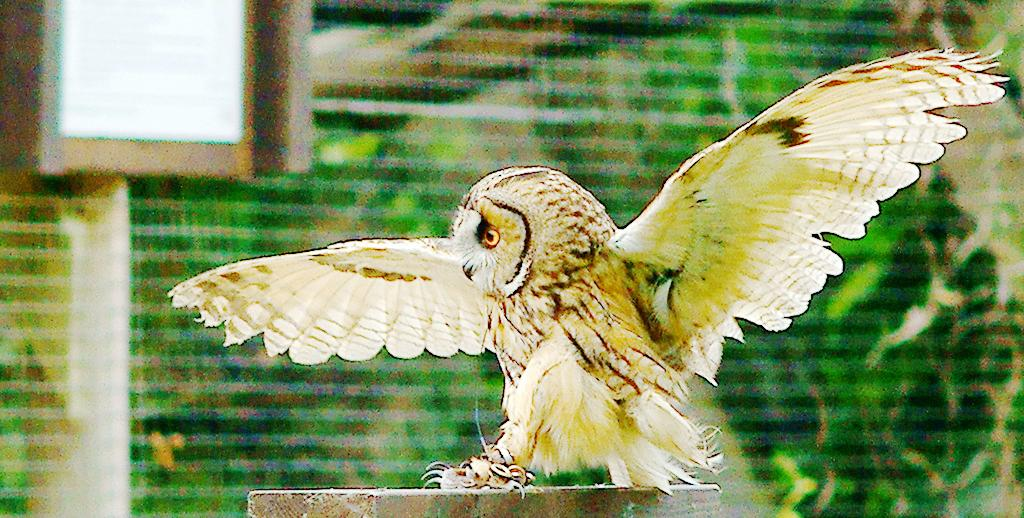Owl: (166, 45, 1014, 497)
